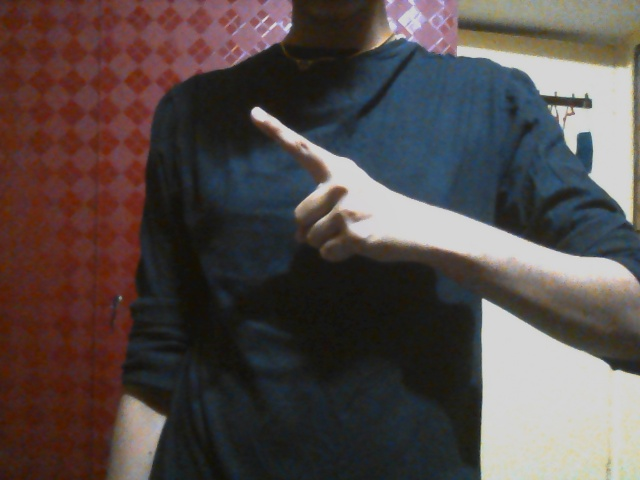I: (247, 103, 414, 270)
